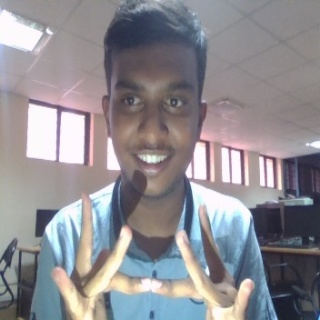Face: (94, 2, 212, 202)
